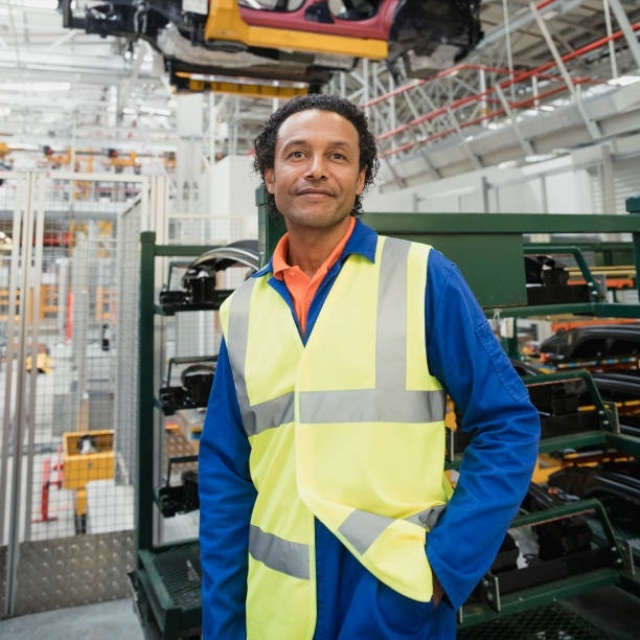Sin_gafas: (282, 133, 355, 166)
Sin_mascara: (288, 181, 340, 213)
